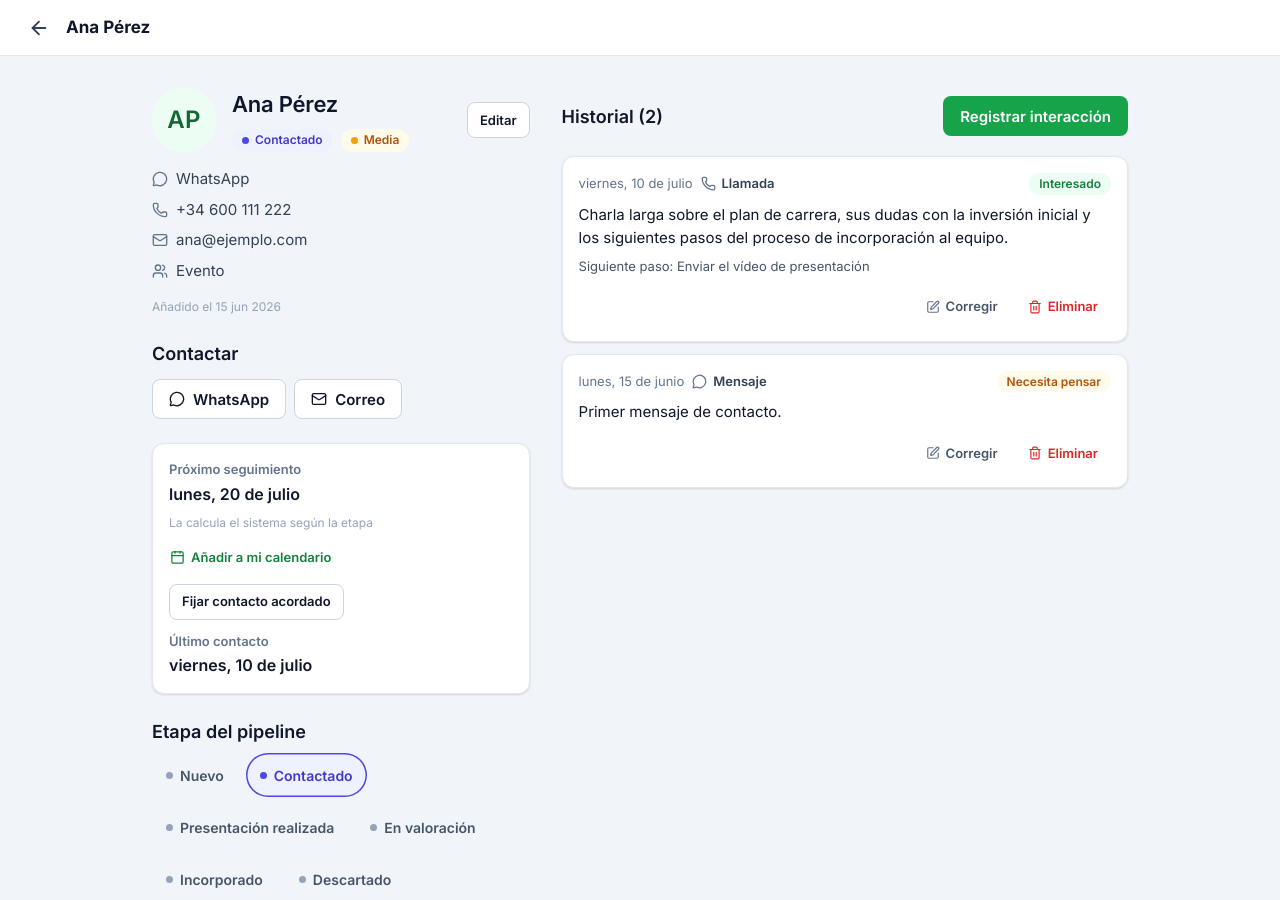
Test: edición de datos (JOS-18, bocado 3) › «Contactar» también desaparece al editar: sus datos están en el formulario (JOS-83)
Check: the element "Contactar" is shown, box [152,343,402,419]
What coordinates should you click on to do the following:
click the button "Editar"
I would click on:
 (498, 120)
Its box is [467,102,530,138].
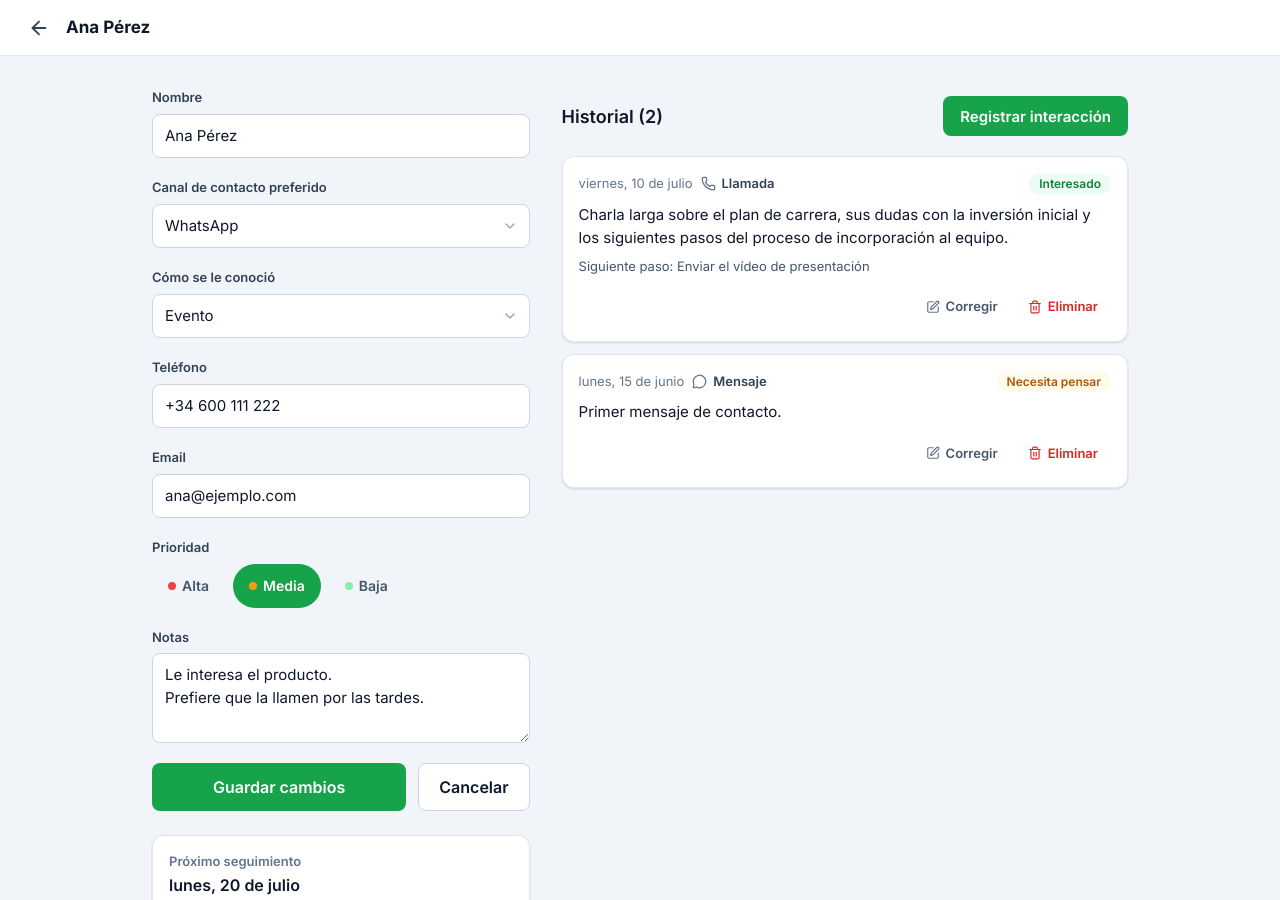
Check: the heading "Contactar" is gone
